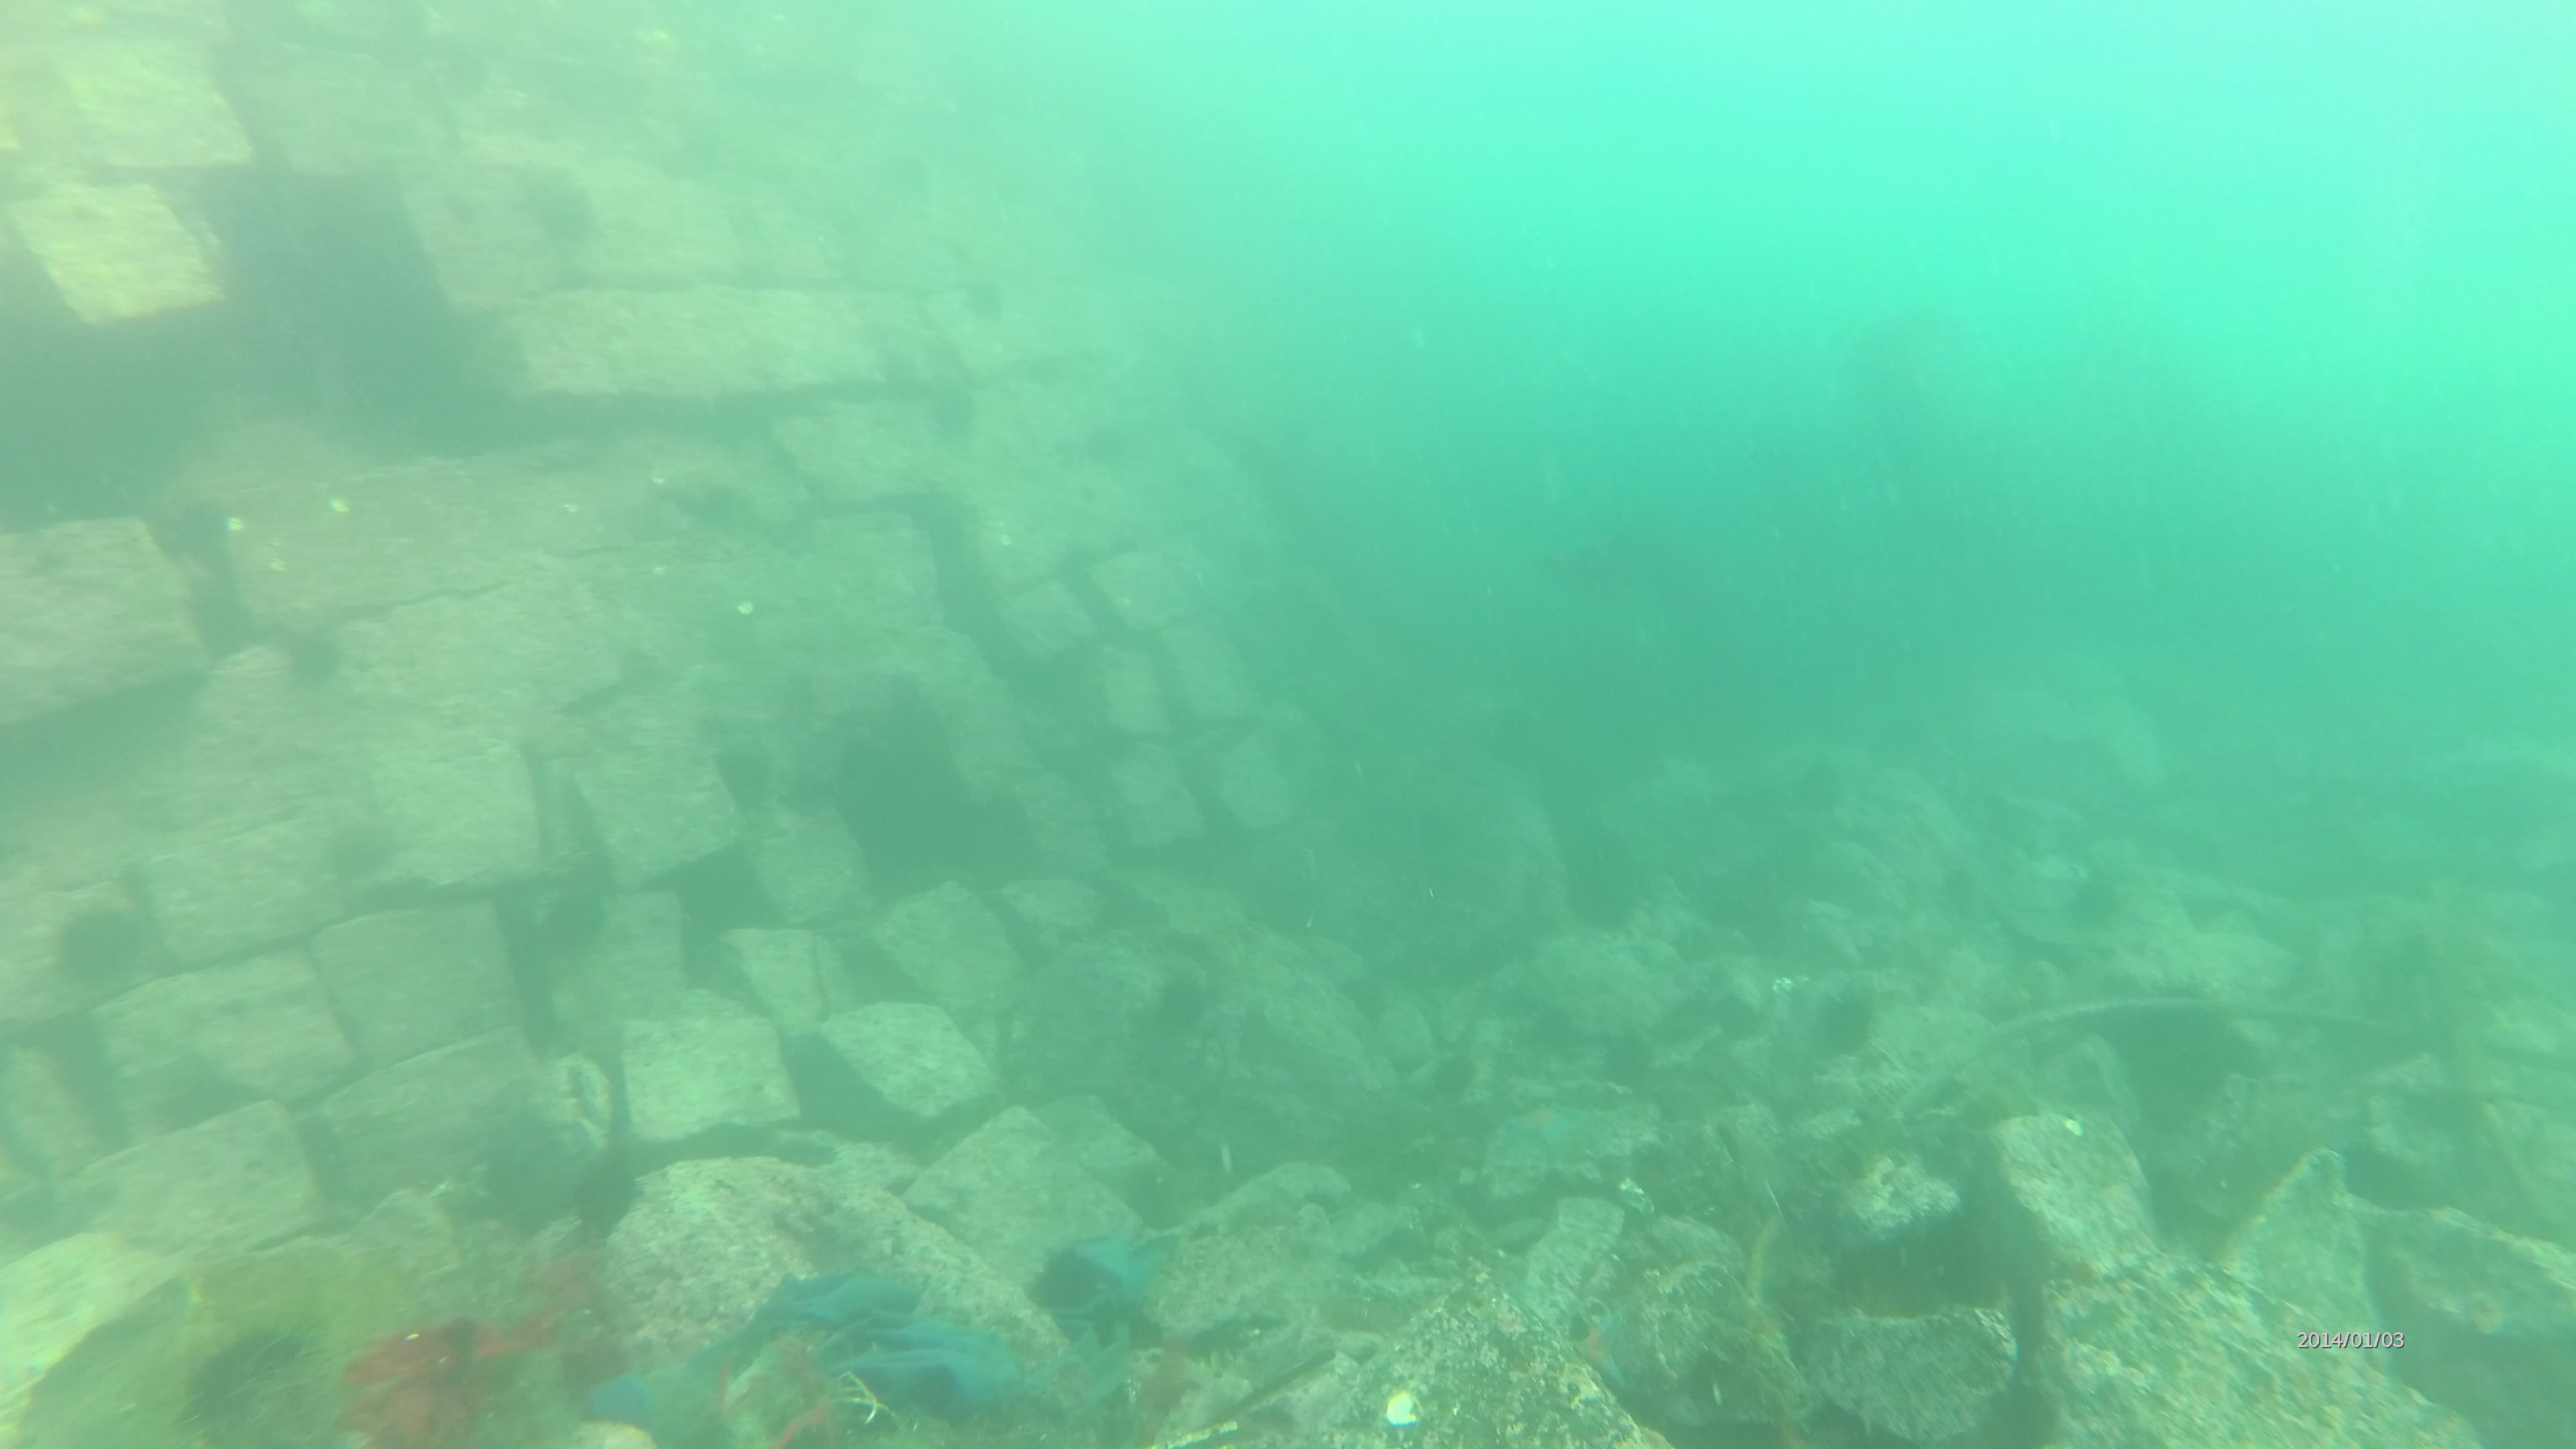echinus: (180, 1327, 322, 1437), (55, 902, 157, 984), (1824, 977, 1882, 1044), (1154, 970, 1214, 1030), (1338, 971, 1394, 1035), (1433, 1053, 1479, 1099)
starfish: (1557, 1307, 1629, 1394), (1495, 1104, 1583, 1155)
